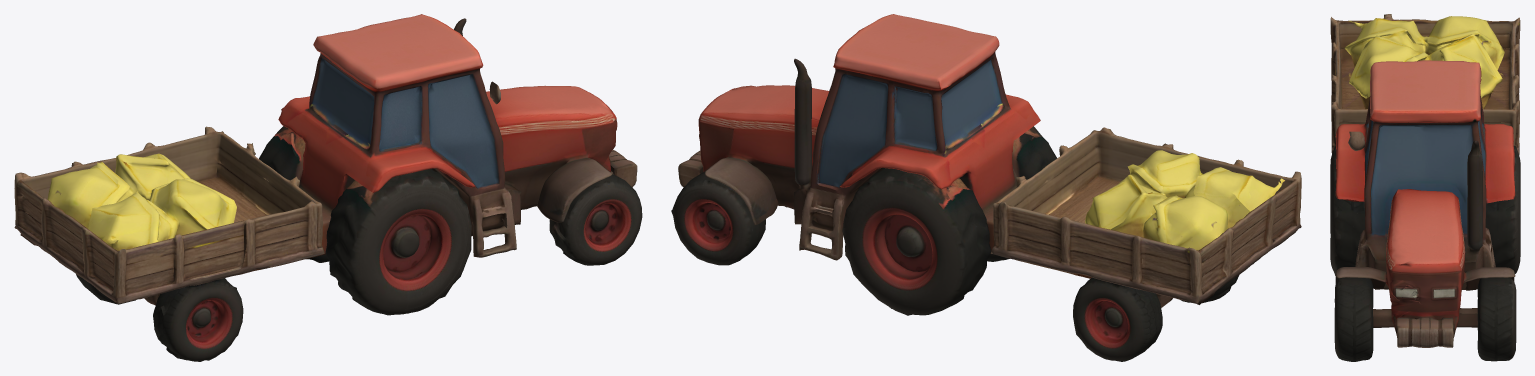
File: tractor+3d+model.fbx
3 renders of one model, left to right at view 1: azimuth 30°, elevation 25°; view 2: azimuth 150°, elevation 25°; view 3: azimuth 270°, elevation 25°, orthographic. The views are drawn at different scales.
Visible parts, largest first — view 1: tripo_node_5ec13120; view 2: tripo_node_5ec13120; view 3: tripo_node_5ec13120.
Boxes of the visible parts, x1,y1,x2,y2 form: tripo_node_5ec13120: [14, 14, 642, 361]; tripo_node_5ec13120: [671, 14, 1301, 361]; tripo_node_5ec13120: [1330, 14, 1520, 361].
Size of the model in its own units: 99.91 by 38.93 by 32.69.
1 material, 1 textured.
